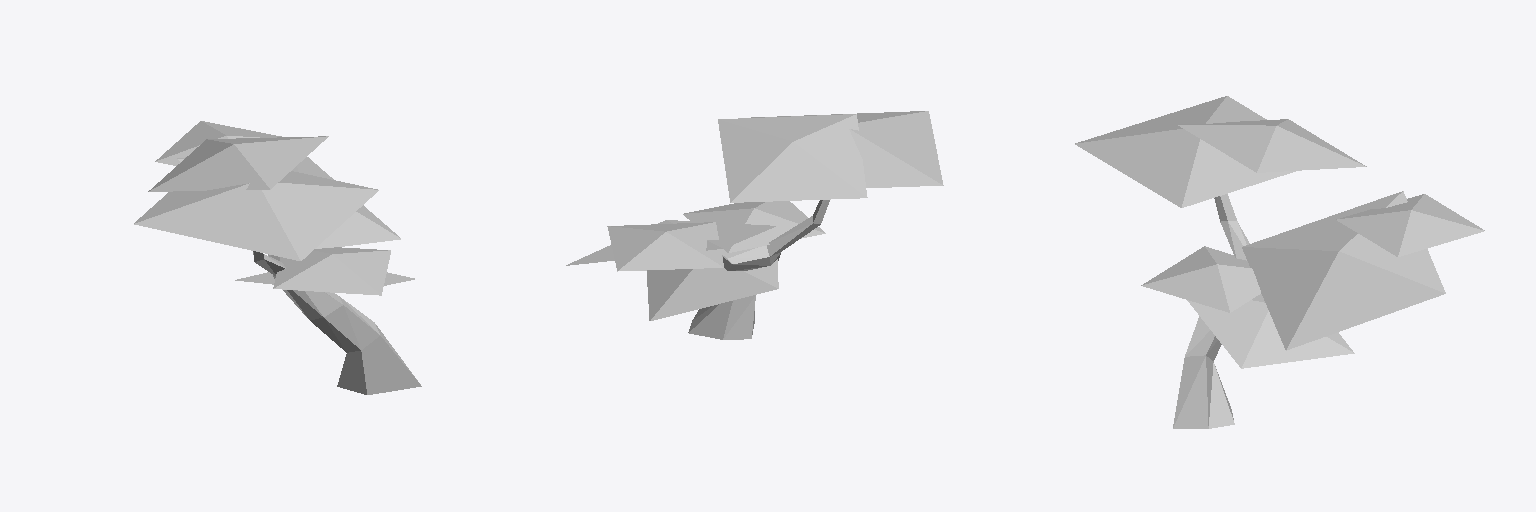
The model's file is bush_05.obj.
The picture shows the model from 3 angles: view 1: azimuth 30°, elevation 25°; view 2: azimuth 150°, elevation 25°; view 3: azimuth 270°, elevation 25°; orthographic projection.
Parts seen in each view (by area): view 1: bush_05; view 2: bush_05; view 3: bush_05.
Part boxes in pixels (x1,y1,x2,y2): bush_05: (134,121,421,394); bush_05: (566,111,943,339); bush_05: (1075,96,1484,428).
Size of the model in its own units: 121 by 91.7 by 144.